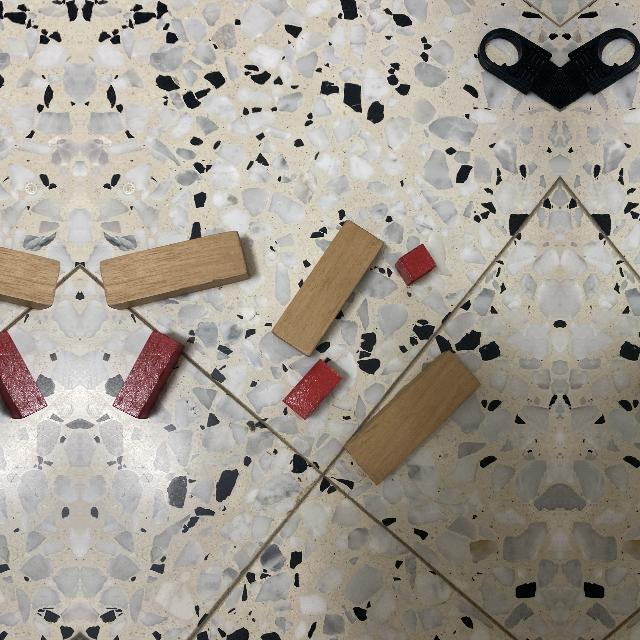jenga: (272, 220, 384, 357), (97, 228, 250, 313), (0, 247, 63, 313)
red block: (113, 332, 184, 422), (0, 332, 47, 422), (282, 359, 342, 420)
red cube: (395, 244, 436, 286)
